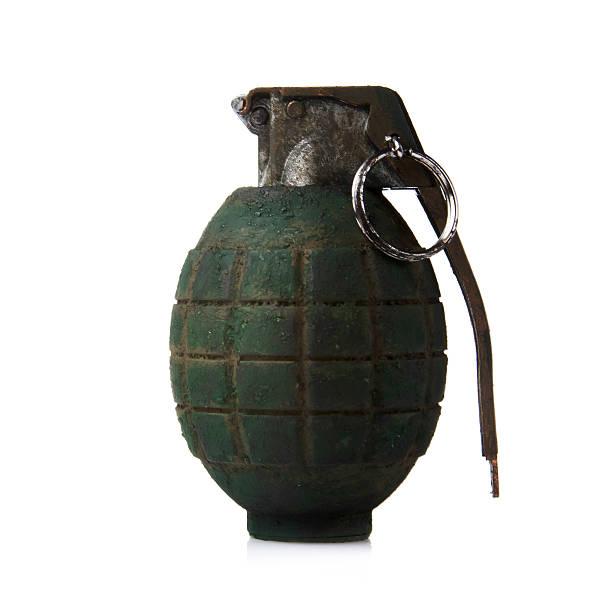e1: (170, 86, 501, 541)
